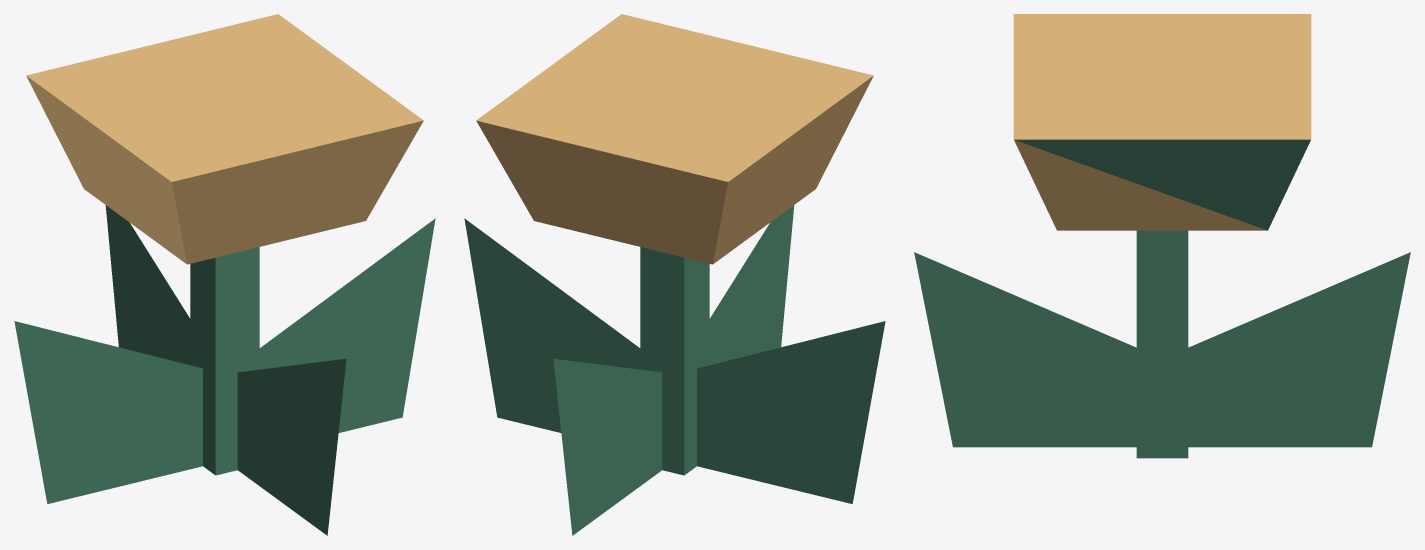
The model's file is naturePack_flat_006.obj.
3 views of the same model, side by side, from view 1: azimuth 30°, elevation 25°; view 2: azimuth 150°, elevation 25°; view 3: azimuth 270°, elevation 25° (orthographic). The views are drawn at different scales.
Parts seen in each view (by area): view 1: Mesh3_Flower_Yellow_Model, Mesh1_Flower_Yellow_Model, Mesh4_Flower_Yellow_Model, Mesh5_Flower_Yellow_Model, Mesh2_Flower_Yellow_Model; view 2: Mesh3_Flower_Yellow_Model, Mesh1_Flower_Yellow_Model, Mesh4_Flower_Yellow_Model, Mesh2_Flower_Yellow_Model, Mesh5_Flower_Yellow_Model; view 3: Mesh3_Flower_Yellow_Model, Mesh2_Flower_Yellow_Model, Mesh5_Flower_Yellow_Model.
Boxes of the visible parts, x1,y1,x2,y2 form: Mesh3_Flower_Yellow_Model: (26, 14, 423, 475); Mesh1_Flower_Yellow_Model: (14, 321, 202, 503); Mesh4_Flower_Yellow_Model: (259, 218, 435, 432); Mesh5_Flower_Yellow_Model: (237, 358, 346, 535); Mesh2_Flower_Yellow_Model: (105, 205, 190, 364); Mesh3_Flower_Yellow_Model: (476, 14, 873, 475); Mesh1_Flower_Yellow_Model: (697, 321, 885, 503); Mesh4_Flower_Yellow_Model: (464, 218, 640, 432); Mesh2_Flower_Yellow_Model: (553, 358, 662, 535); Mesh5_Flower_Yellow_Model: (709, 205, 794, 364); Mesh3_Flower_Yellow_Model: (1013, 14, 1311, 458); Mesh2_Flower_Yellow_Model: (1188, 252, 1410, 447); Mesh5_Flower_Yellow_Model: (914, 252, 1136, 447).
Size of the model in its own units: 0.4859 by 0.4 by 0.4859.
